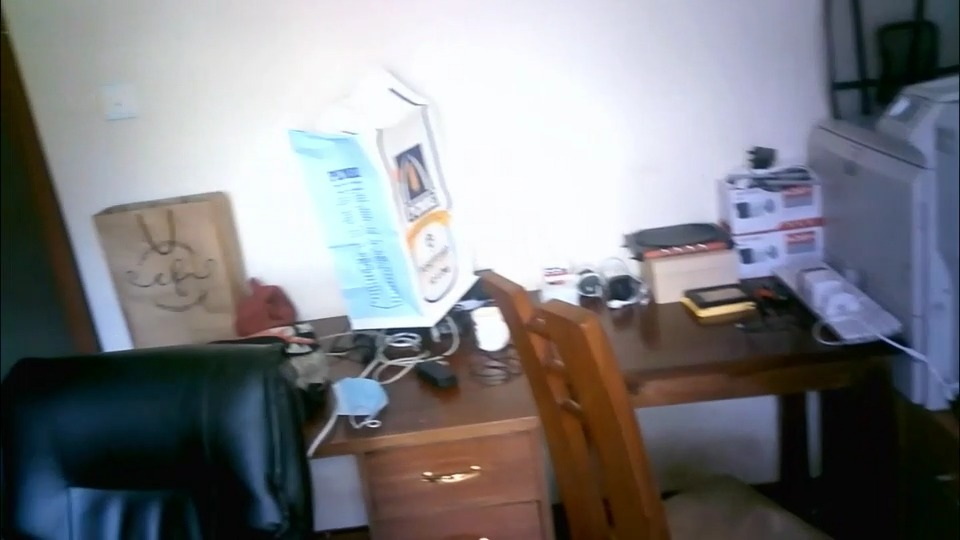wheat_flour_blue_label: (288, 71, 477, 326)
